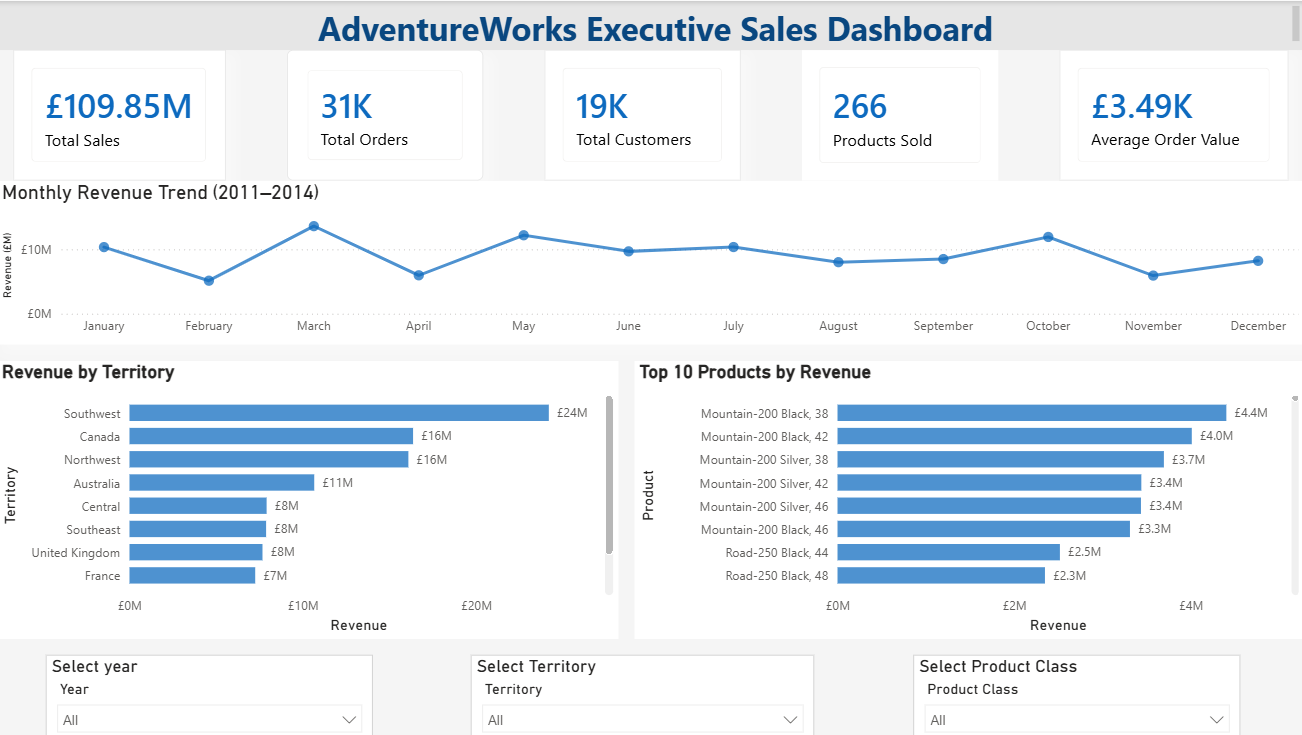

The page's visual inventory and layout, read from the dashboard file:
{"tool":"powerbi","page":{"name":"Sales Overview","canvas":[1280,720],"ordinal":0},"visuals":[{"type":"cardVisual","fields":{"Data":["FactSales.Total Sales"]},"box":[16,48,208,128],"z":0},{"type":"cardVisual","fields":{"Data":["FactSales.Total Orders"]},"box":[284,48,192,128],"z":1000},{"type":"cardVisual","fields":{"Data":["FactSales.Total Customers"]},"box":[536,48,192,128],"z":2000},{"type":"cardVisual","fields":{"Data":["FactSales.Average Order Value"]},"box":[1040,48,224,128],"z":3000},{"type":"cardVisual","fields":{"Data":["FactSales.Total Products"]},"box":[788,48,192,128],"z":4000},{"type":"textbox","box":[0,0,1280,48],"z":5000},{"type":"clusteredBarChart","title":"Revenue by Territory","fields":{"Category":["DimTerritory.TerritoryName"],"Y":["Sum(FactSales.SalesAmount)"]},"box":[0,352,608,272],"z":6000},{"type":"clusteredBarChart","title":"Top 10 Products by Revenue","fields":{"Category":["DimProduct.ProductName"],"Y":["Sum(FactSales.SalesAmount)"]},"box":[624,352,656,272],"z":7000},{"type":"lineChart","title":"Monthly Revenue Trend (2011–2014)","fields":{"Category":["DimDate.FullDate.Variation.Date Hierarchy.Year","DimDate.FullDate.Variation.Date Hierarchy.Quarter","DimDate.FullDate.Variation.Date Hierarchy.Month","DimDate.FullDate.Variation.Date Hierarchy.Day"],"Y":["Sum(FactSales.SalesAmount)"]},"box":[0,176,1280,160],"z":8000},{"type":"slicer","title":"Select year","fields":{"Values":["DimDate.YearNumber"]},"box":[48,640,320,80],"z":9000},{"type":"slicer","title":"Select Territory","fields":{"Values":["DimTerritory.TerritoryName"]},"box":[464,640,336,80],"z":10000},{"type":"slicer","title":"Select Product Class","fields":{"Values":["DimProduct.ProductClass"]},"box":[896,640,320,80],"z":11000}]}

Visuals, with their boxes in screenshot pixels (x1, y1, x2, y2), scaled from the page's 1280x720 canvas onto the 1302x735 screenshot:
cardVisual - FactSales.Total Sales: bbox=[16, 49, 228, 180]
cardVisual - FactSales.Total Orders: bbox=[289, 49, 484, 180]
cardVisual - FactSales.Total Customers: bbox=[545, 49, 741, 180]
cardVisual - FactSales.Average Order Value: bbox=[1058, 49, 1286, 180]
cardVisual - FactSales.Total Products: bbox=[802, 49, 997, 180]
textbox: bbox=[0, 0, 1301, 49]
"Revenue by Territory" clusteredBarChart: bbox=[0, 359, 618, 637]
"Top 10 Products by Revenue" clusteredBarChart: bbox=[635, 359, 1301, 637]
"Monthly Revenue Trend (2011–2014)" lineChart: bbox=[0, 180, 1301, 343]
"Select year" slicer: bbox=[49, 653, 374, 734]
"Select Territory" slicer: bbox=[472, 653, 814, 734]
"Select Product Class" slicer: bbox=[911, 653, 1237, 734]
